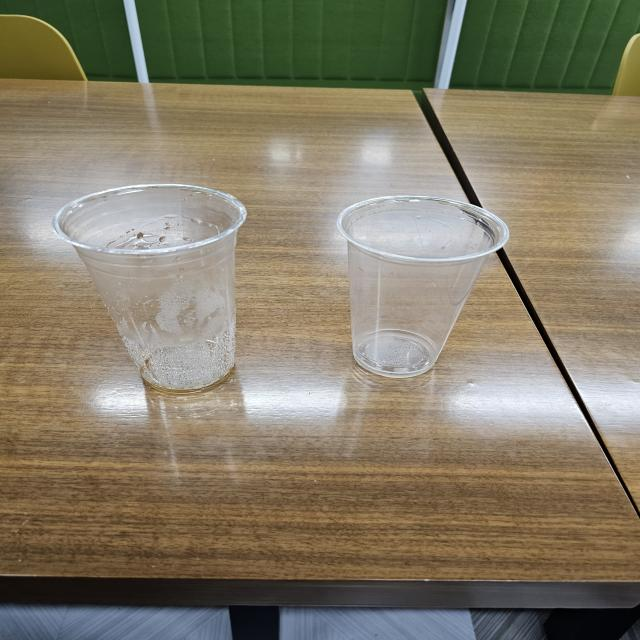cup: (47, 180, 261, 398), (333, 188, 508, 385)
